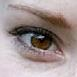eye: (31, 33, 52, 50)
